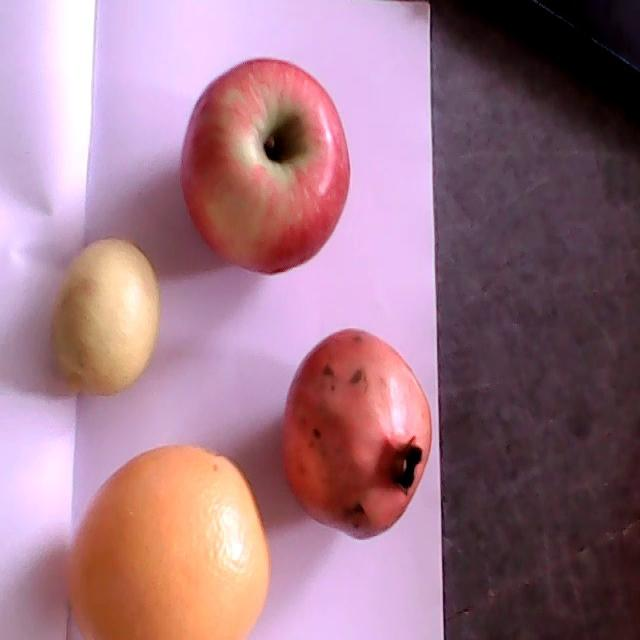apple: (178, 57, 350, 269)
lemon: (50, 238, 159, 395)
orange: (62, 444, 270, 639)
pomegranate: (279, 329, 432, 542)
